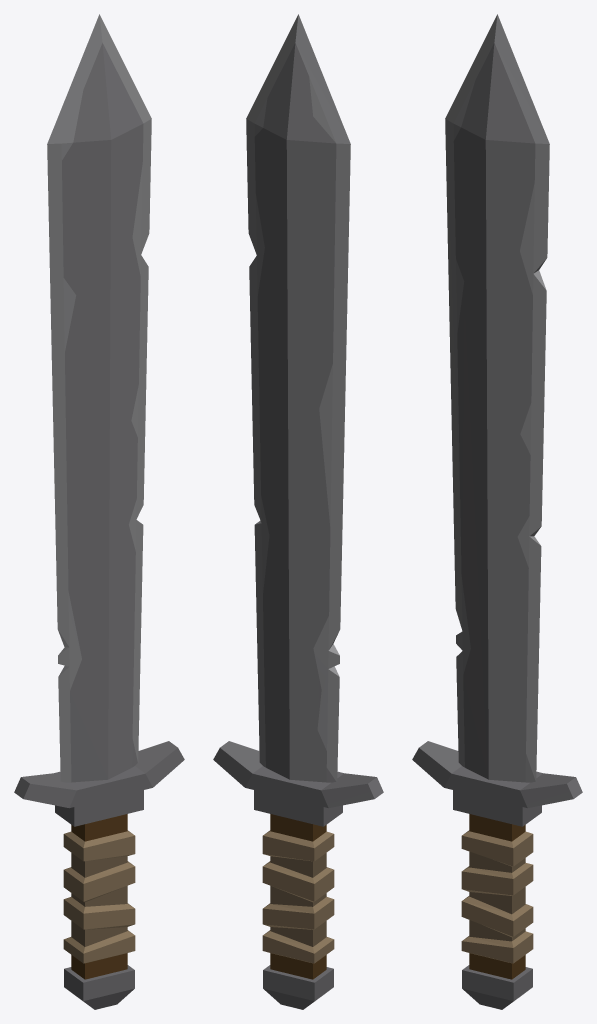
The model's file is SM_Wep_Sword_01.gltf.
3 views of the same model, side by side, from view 1: azimuth 30°, elevation 25°; view 2: azimuth 150°, elevation 25°; view 3: azimuth 330°, elevation 25° (orthographic).
Parts seen in each view (by area): view 1: SM_Wep_Sword_01; view 2: SM_Wep_Sword_01; view 3: SM_Wep_Sword_01.
Part boxes in pixels (x1,y1,x2,y2): SM_Wep_Sword_01: (14,14,184,1009); SM_Wep_Sword_01: (213,14,383,1009); SM_Wep_Sword_01: (412,14,582,1009).
Bounding box in the file's own units: 0.215 × 1.26 × 0.054.
Materials: 1 (1 with a texture image).
